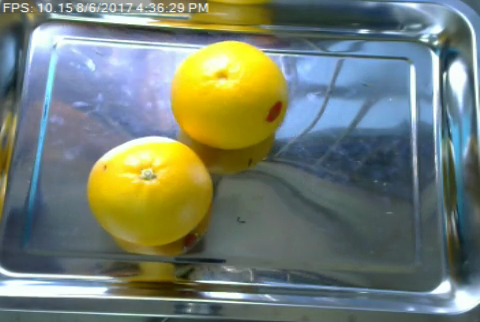Orange: (86, 135, 212, 247), (171, 40, 288, 150)
